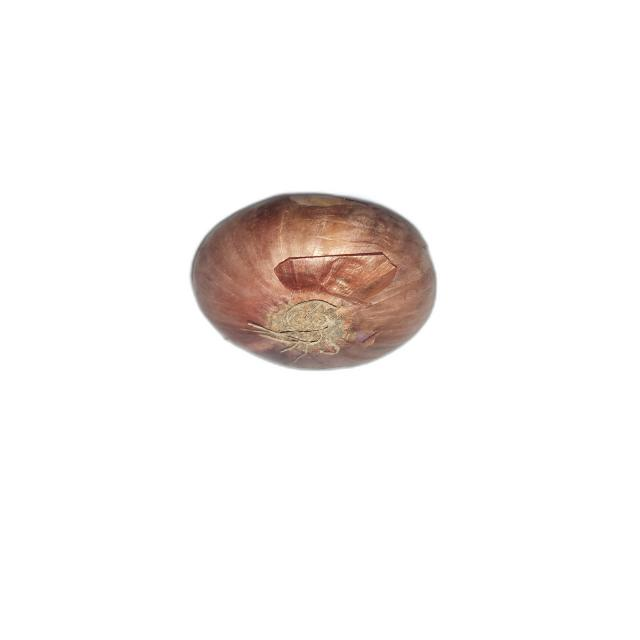onion: (190, 192, 438, 371)
